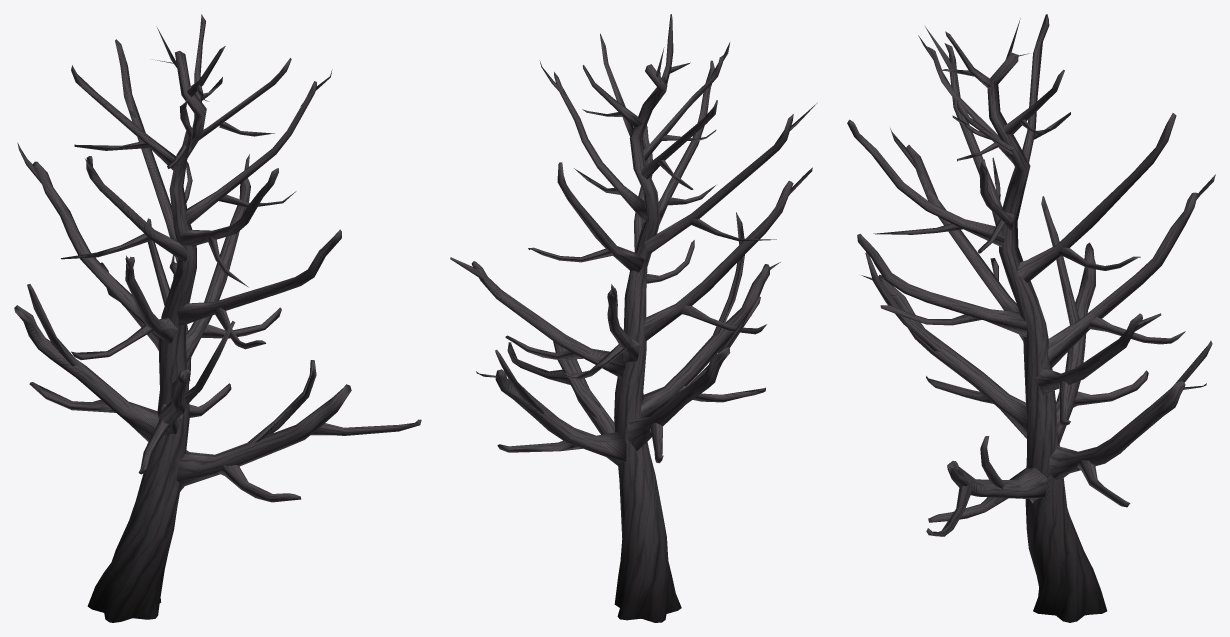
Rendered from DeadTree_2.gltf.
The picture shows the model from 3 angles, left to right: view 1: azimuth 30°, elevation 25°; view 2: azimuth 150°, elevation 25°; view 3: azimuth 270°, elevation 25°; orthographic projection. The views are drawn at different scales.
Visible parts, largest first — view 1: DeadTree_2; view 2: DeadTree_2; view 3: DeadTree_2.
Part boxes in pixels (x1,y1,x2,y2): DeadTree_2: [14, 14, 421, 622]; DeadTree_2: [450, 14, 817, 622]; DeadTree_2: [847, 14, 1215, 622].
Size of the model in its own units: 6.68 by 11.29 by 6.37.
Materials: 1 (1 with a texture image).
